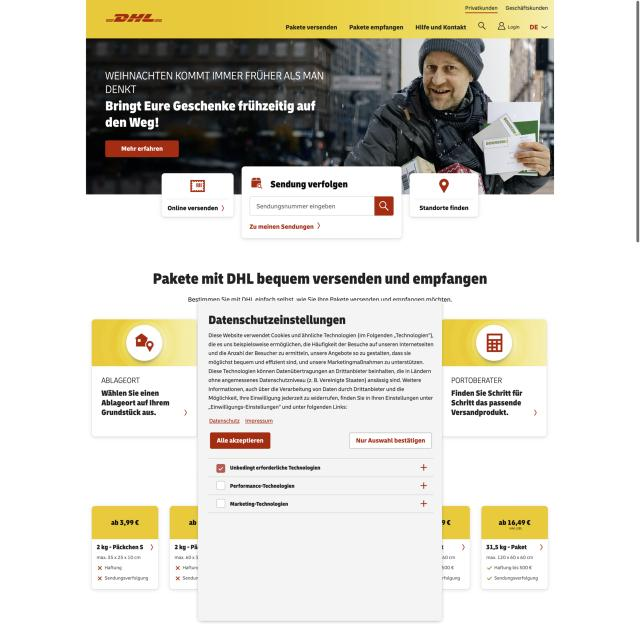input: (250, 197, 394, 216)
logo: (105, 11, 163, 26)
navigation: (284, 23, 468, 31), (464, 4, 550, 15)
